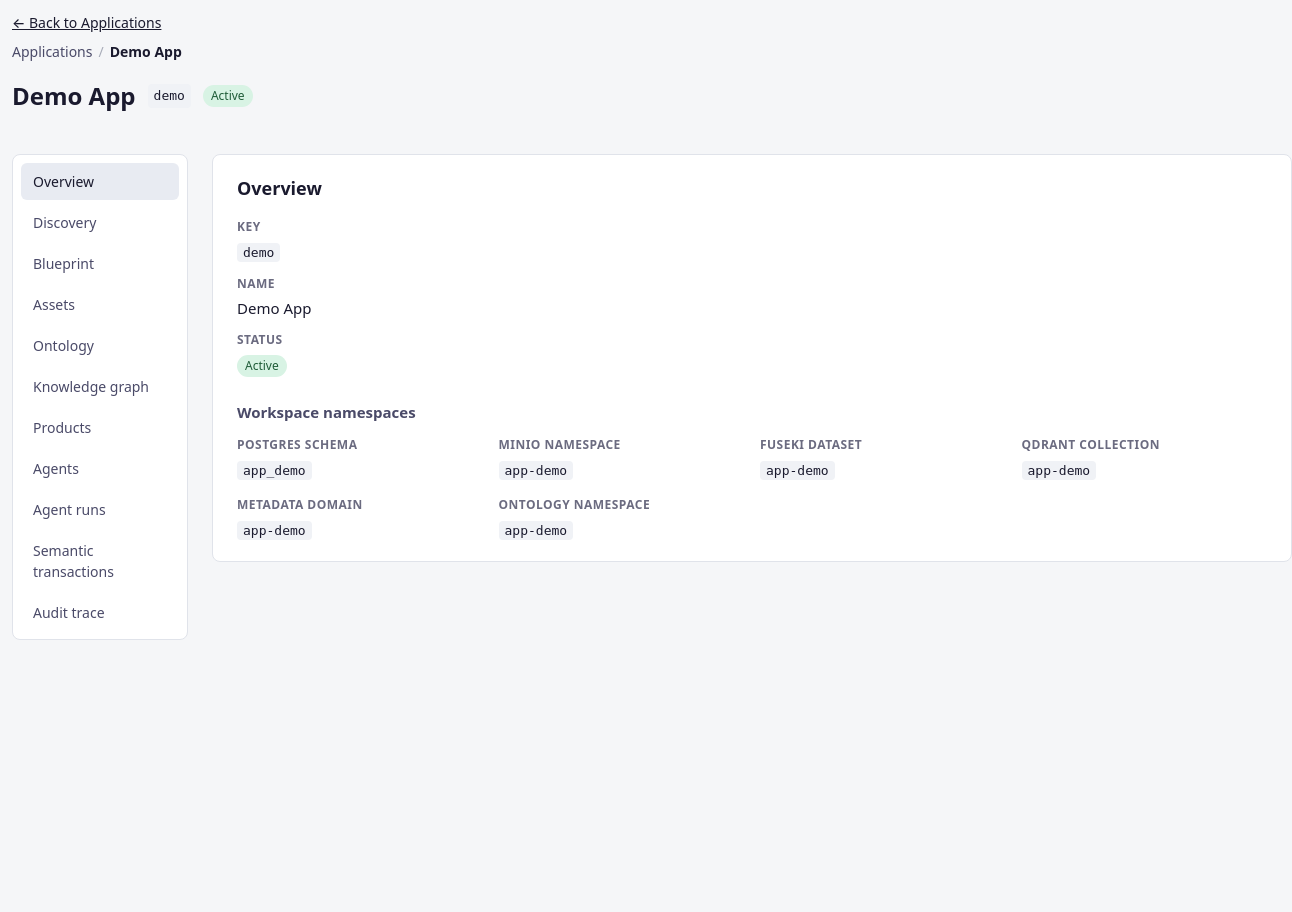
Test: ApplicationDetailPage › navigates to discovery sessions list
This screenshot has width=1292, height=912.
Check: the heading "Demo App" is shown, box [12,78,136,114]
What coordinates should you click on to do the following:
click the link "Discovery"
I would click on:
 (65, 222)
Its box is [33,213,96,232].
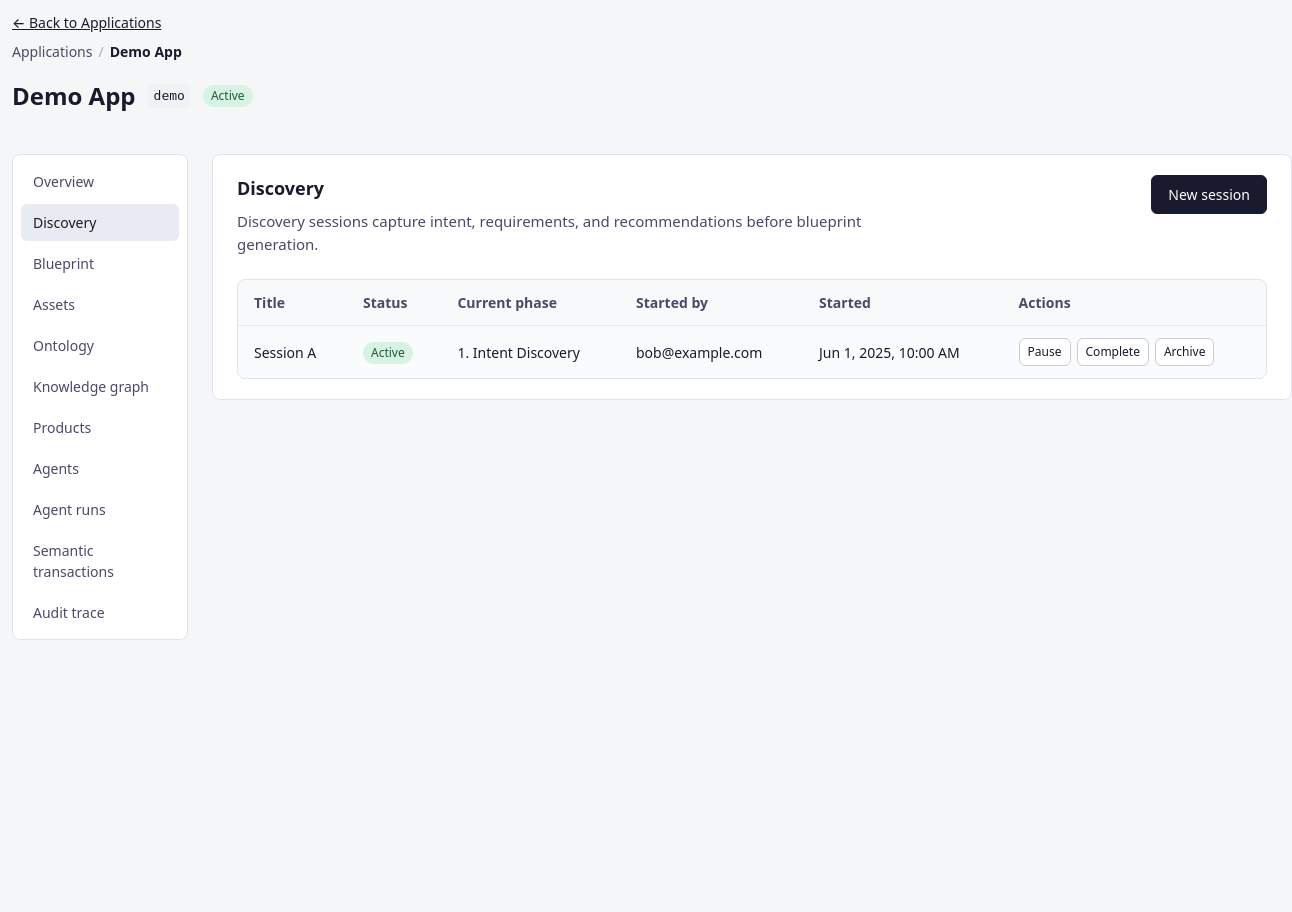
Check: the text "Session A" is shown, box [238,326,347,378]
Check: the heading "Discovery" is shown, box [237,176,324,200]
